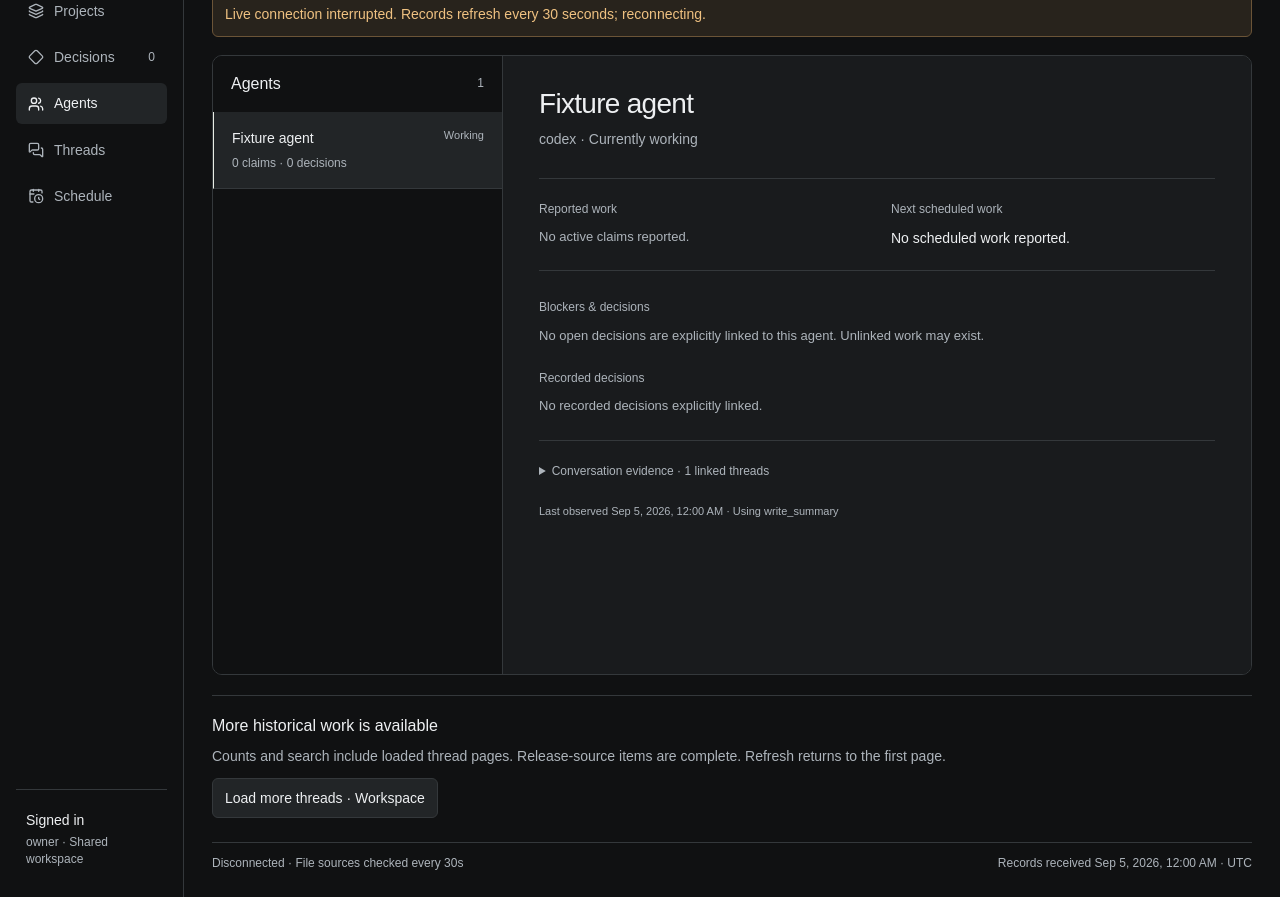
Signal live refresh and paging › keeps an active tool while loading an older page, but allows a refresh to clear it
(page scrolled)
Expected: the text "Last observed Sep 5, 2026, 12:00 AM · Using write_summary" is shown, x1=539 y1=505 x2=839 y2=517
Click the button "Load more threads · Workspace". click: x=325, y=798
box: x1=212 y1=778 x2=438 y2=818
(page scrolled)
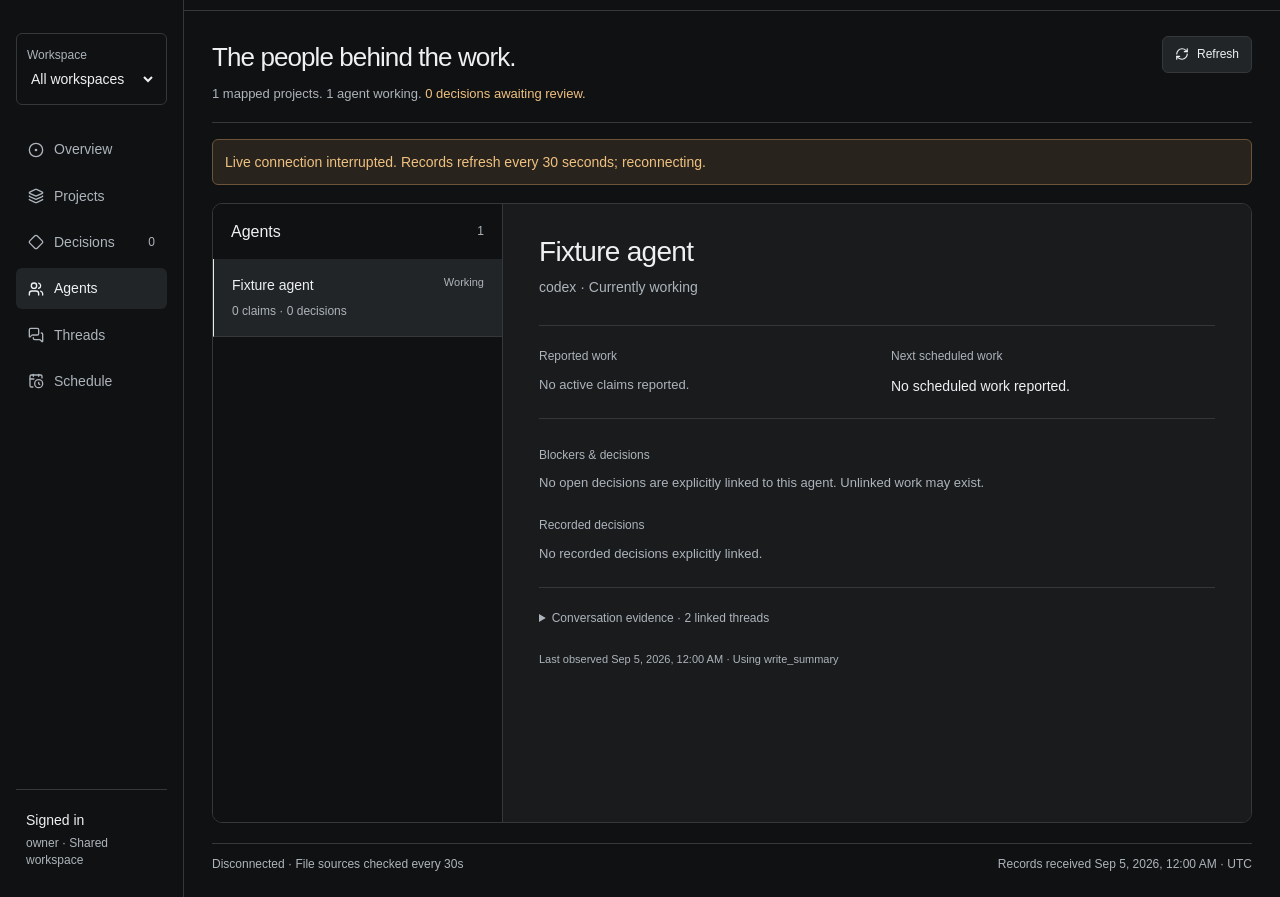
Expected: the text "Last observed Sep 5, 2026, 12:00 AM · Using write_summary" is shown, x1=539 y1=653 x2=839 y2=665
Click the button with aria-label "Refresh records". click: x=1207, y=54
box: x1=1162 y1=36 x2=1252 y2=73
Wait 1001 ms
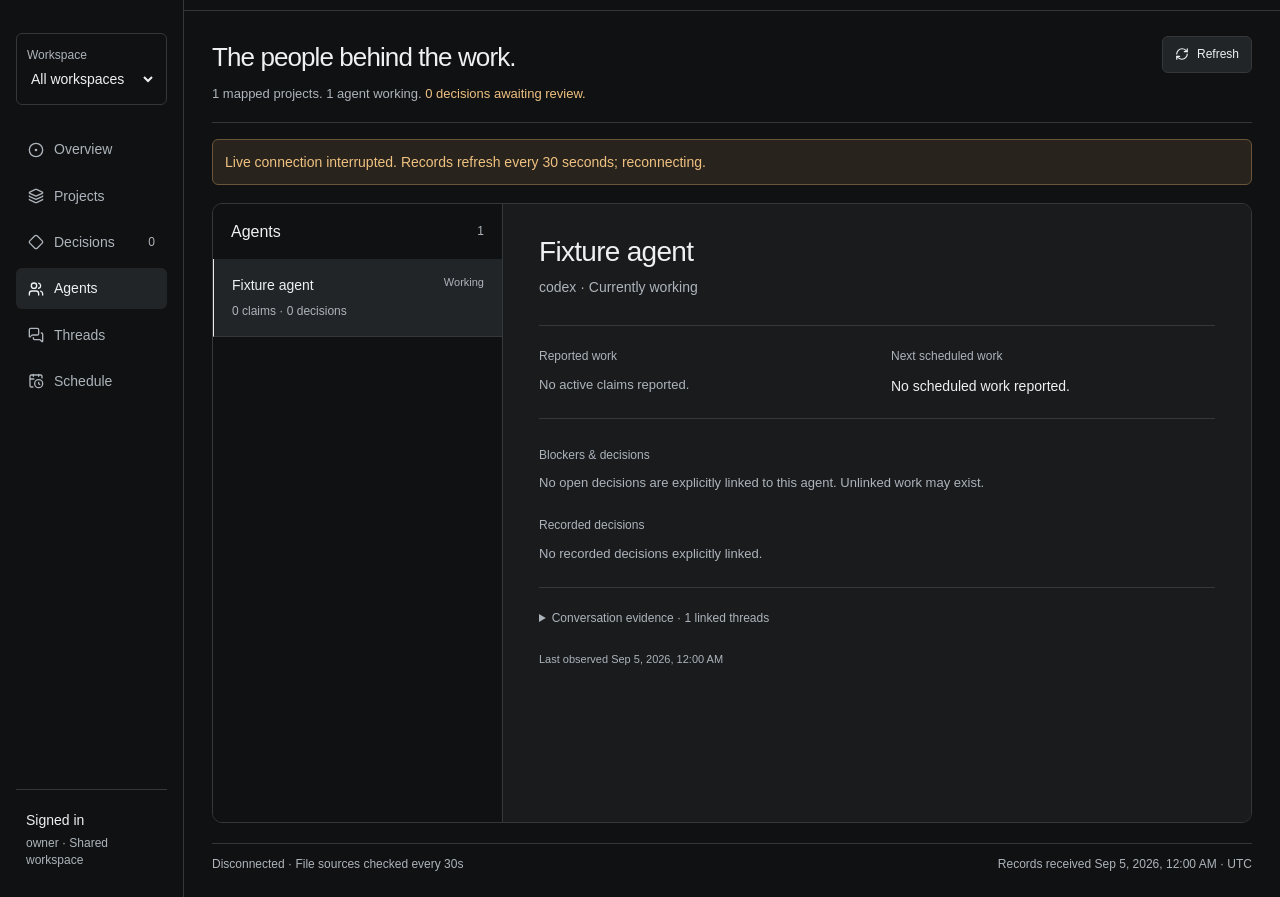
Expected: the element with test id "agent-work" is shown, x1=503 y1=204 x2=1251 y2=822
Expected: the text "Using write_summary" is gone
